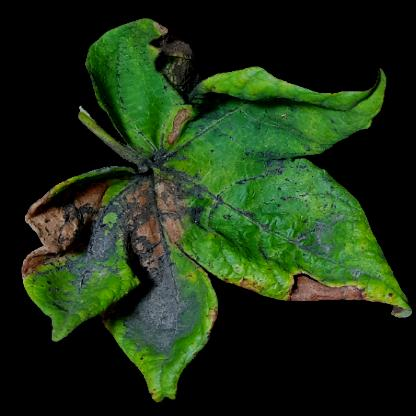curl_stage1: (232, 73, 292, 105), (341, 223, 376, 259), (371, 268, 404, 306), (184, 149, 222, 175)
sooty: (72, 199, 198, 339), (207, 186, 335, 270), (277, 275, 355, 308), (151, 39, 195, 94), (240, 146, 304, 177), (129, 334, 183, 361)
